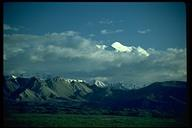cloud: (5, 18, 184, 75)
mountain: (11, 73, 185, 117)
sky: (92, 4, 182, 45)
